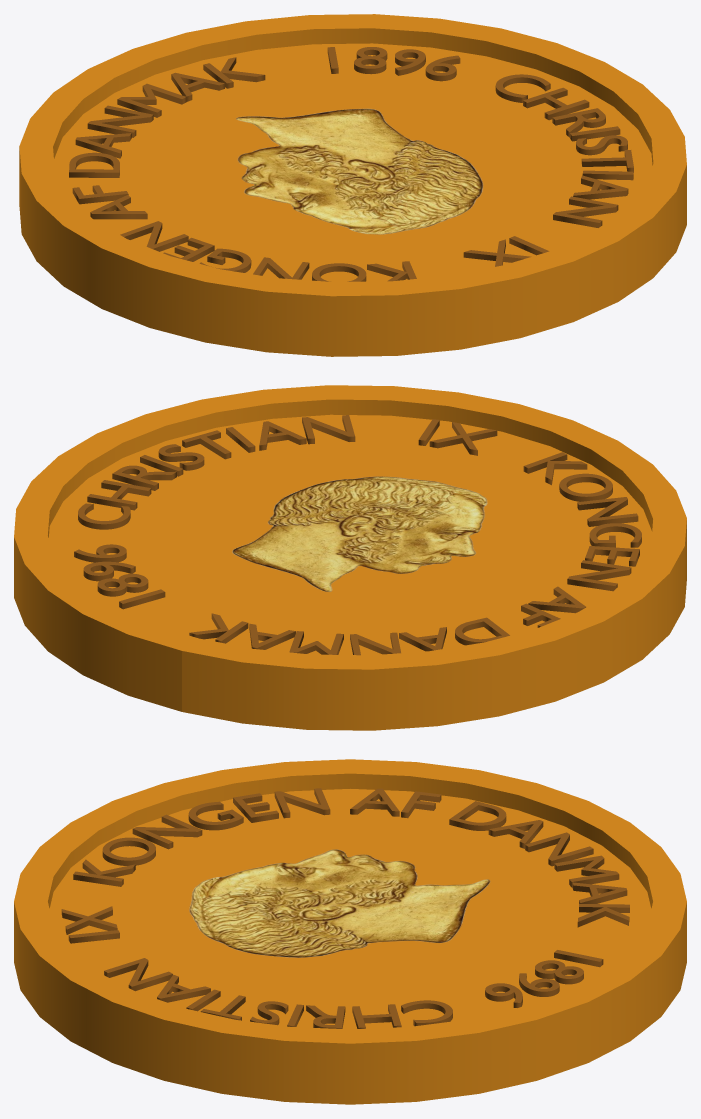
File: christian9.glb
3 renders of one model, top to bottom at view 1: azimuth 30°, elevation 25°; view 2: azimuth 150°, elevation 25°; view 3: azimuth 270°, elevation 25°, orthographic.
Parts seen in each view (by area): view 1: Christian9; view 2: Christian9; view 3: Christian9.
Boxes of the visible parts, x1,y1,x2,y2 form: Christian9: [19, 14, 686, 356]; Christian9: [14, 385, 686, 730]; Christian9: [14, 759, 686, 1104].
Size of the model in its own units: 2 by 0.2183 by 2.
3 materials, 1 textured.
